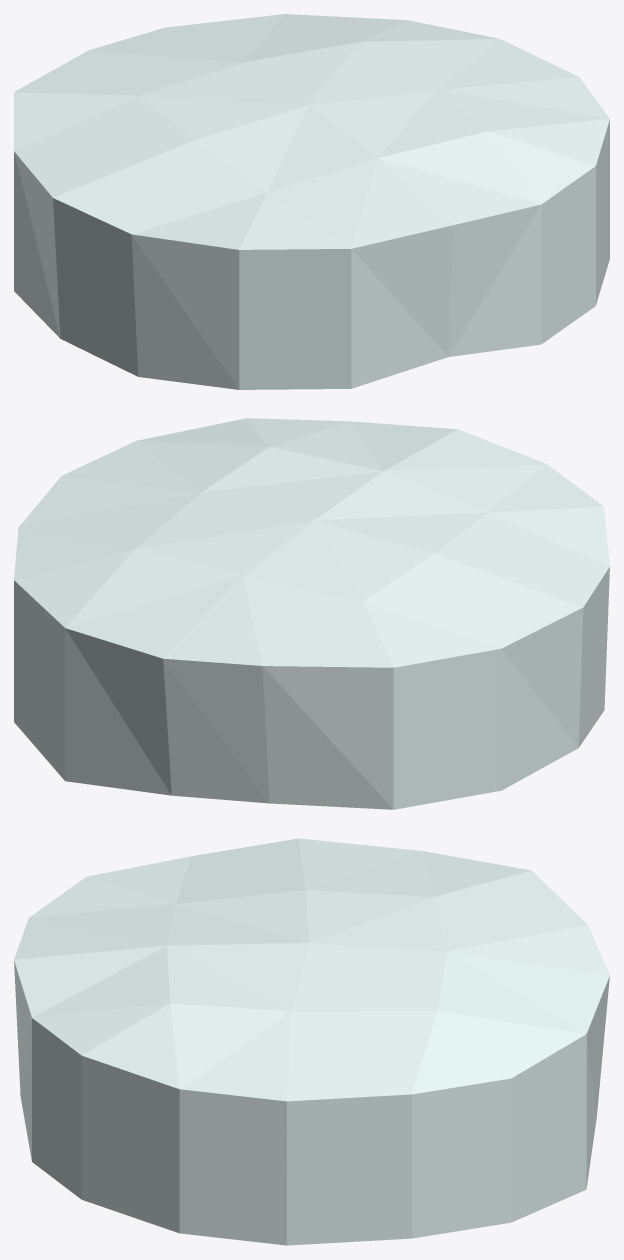
Rendered from snow.dae.
The picture shows the model from 3 angles, top to bottom: view 1: azimuth 30°, elevation 25°; view 2: azimuth 150°, elevation 25°; view 3: azimuth 270°, elevation 25°; orthographic projection. The views are drawn at different scales.
Visible parts, largest first — view 1: Plane; view 2: Plane; view 3: Plane.
Part boxes in pixels (box(x1,y1,x2,y2)): Plane: box(14, 14, 609, 389); Plane: box(14, 418, 609, 809); Plane: box(14, 838, 609, 1245).
Bounding box in the file's own units: 12.61 × 12.15 × 4.3.
1 material, 1 textured.
